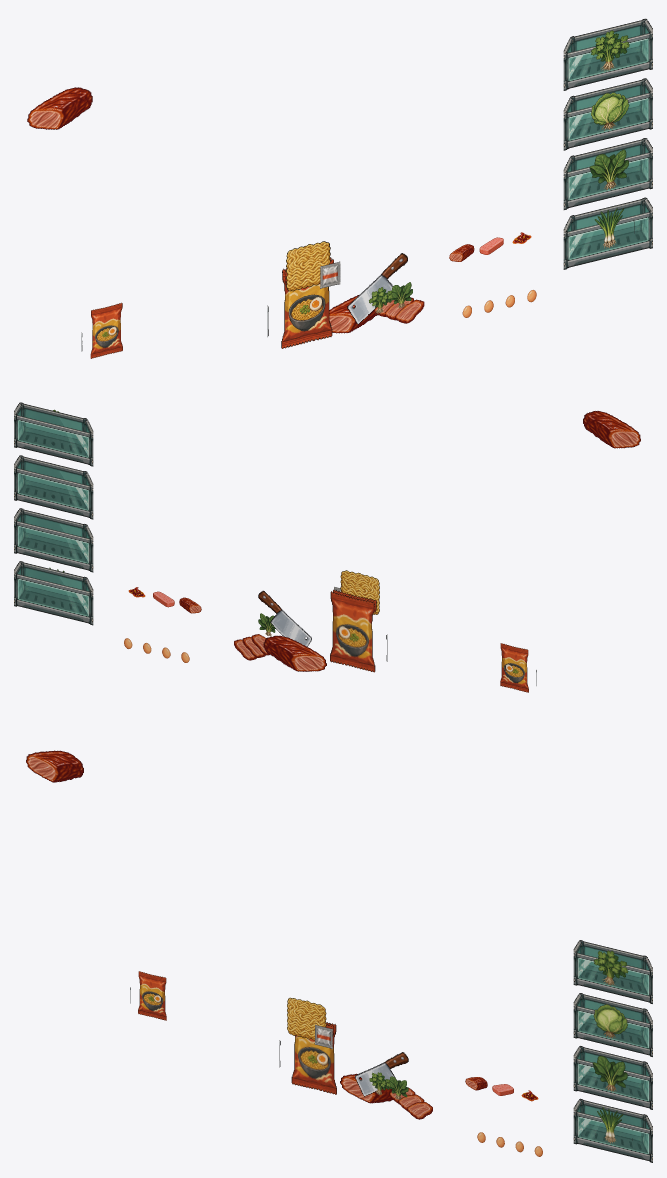
File: prep_layers.glb
3 renders of one model, top to bottom at view 1: azimuth 30°, elevation 25°; view 2: azimuth 150°, elevation 25°; view 3: azimuth 330°, elevation 25°, orthographic. The views are drawn at different scales.
Visible parts, largest first — view 1: EmptyGrowingDrawer3, EmptyGrowingDrawer0, EmptyGrowingDrawer2, EmptyGrowingDrawer1, AnimatedNoodlePacket, DraggedWholeMeat, FallingNoodleBrick, PackedDelivery, WorkingCleaver, LivingPlant1, LivingPlant2, LivingPlant0 (+2 smaller); view 2: EmptyGrowingDrawer1, EmptyGrowingDrawer2, EmptyGrowingDrawer0, EmptyGrowingDrawer3, AnimatedNoodlePacket, CuttingBoardWholeMeat, DraggedWholeMeat, PackedDelivery, FallingNoodleBrick, WorkingCleaver; view 3: EmptyGrowingDrawer3, EmptyGrowingDrawer0, EmptyGrowingDrawer2, EmptyGrowingDrawer1, AnimatedNoodlePacket, DraggedWholeMeat, FallingNoodleBrick, PackedDelivery, WorkingCleaver, LivingPlant1, LivingPlant2, LivingPlant0 (+1 smaller).
Boxes of the visible parts, x1,y1,x2,y2 form: EmptyGrowingDrawer3: (563,197,652,269); EmptyGrowingDrawer0: (563,18,652,90); EmptyGrowingDrawer2: (563,138,652,209); EmptyGrowingDrawer1: (563,78,652,150); AnimatedNoodlePacket: (267,257,332,348); DraggedWholeMeat: (27,87,92,129); FallingNoodleBrick: (286,241,330,291); PackedDelivery: (81,302,122,358); WorkingCleaver: (347,253,407,324); LivingPlant1: (591,92,629,130); LivingPlant2: (589,149,628,190); LivingPlant0: (591,30,629,71); EmptyGrowingDrawer1: (14,455,93,519); EmptyGrowingDrawer2: (14,508,93,572); EmptyGrowingDrawer0: (14,402,93,466); EmptyGrowingDrawer3: (14,561,93,625); AnimatedNoodlePacket: (330,591,387,672); CuttingBoardWholeMeat: (263,635,326,671); DraggedWholeMeat: (583,411,640,448); PackedDelivery: (500,643,536,692); FallingNoodleBrick: (340,570,379,614); WorkingCleaver: (258,590,311,646); EmptyGrowingDrawer3: (573,1098,652,1162); EmptyGrowingDrawer0: (573,940,652,1003); EmptyGrowingDrawer2: (573,1046,652,1109); EmptyGrowingDrawer1: (573,993,652,1056); AnimatedNoodlePacket: (279,1022,336,1094); DraggedWholeMeat: (26,750,83,782); FallingNoodleBrick: (287,997,326,1040); PackedDelivery: (130,971,166,1020); WorkingCleaver: (355,1052,408,1096); LivingPlant1: (593,1004,627,1038); LivingPlant2: (592,1055,627,1091); LivingPlant0: (594,950,628,985).
Bounding box in the file's own units: 15.5 × 8.24 × 1.6.
Materials: 3 (3 with a texture image).
